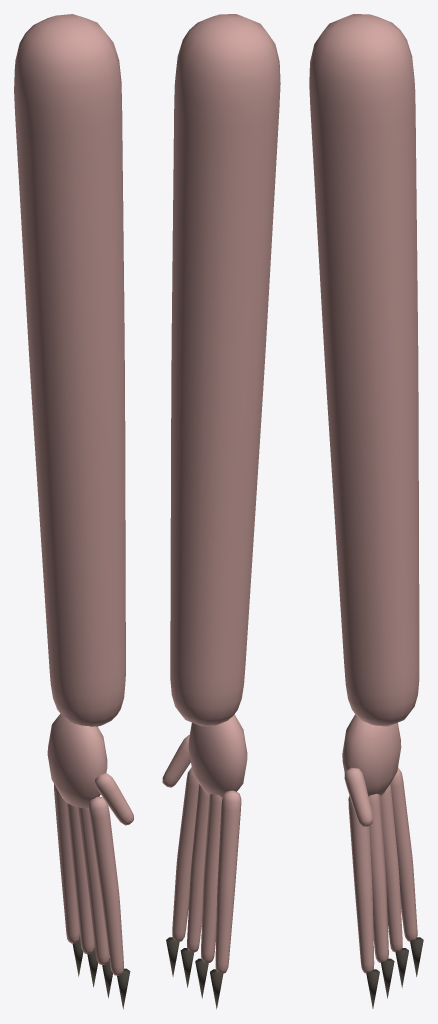
Rendered from SM_SkinStealer_LowerArm.fbx.
3 renders of one model, left to right at view 1: azimuth 30°, elevation 25°; view 2: azimuth 210°, elevation 25°; view 3: azimuth 330°, elevation 25°, orthographic.
Visible parts, largest first — view 1: SM_SkinStealer_LowerArm; view 2: SM_SkinStealer_LowerArm; view 3: SM_SkinStealer_LowerArm.
Boxes of the visible parts, left/top/right/bottom form: SM_SkinStealer_LowerArm: left=14, top=14, right=133, bottom=1009; SM_SkinStealer_LowerArm: left=162, top=14, right=280, bottom=1009; SM_SkinStealer_LowerArm: left=309, top=14, right=423, bottom=1008.
Size of the model in its own units: 8.04 by 76.08 by 8.15.
